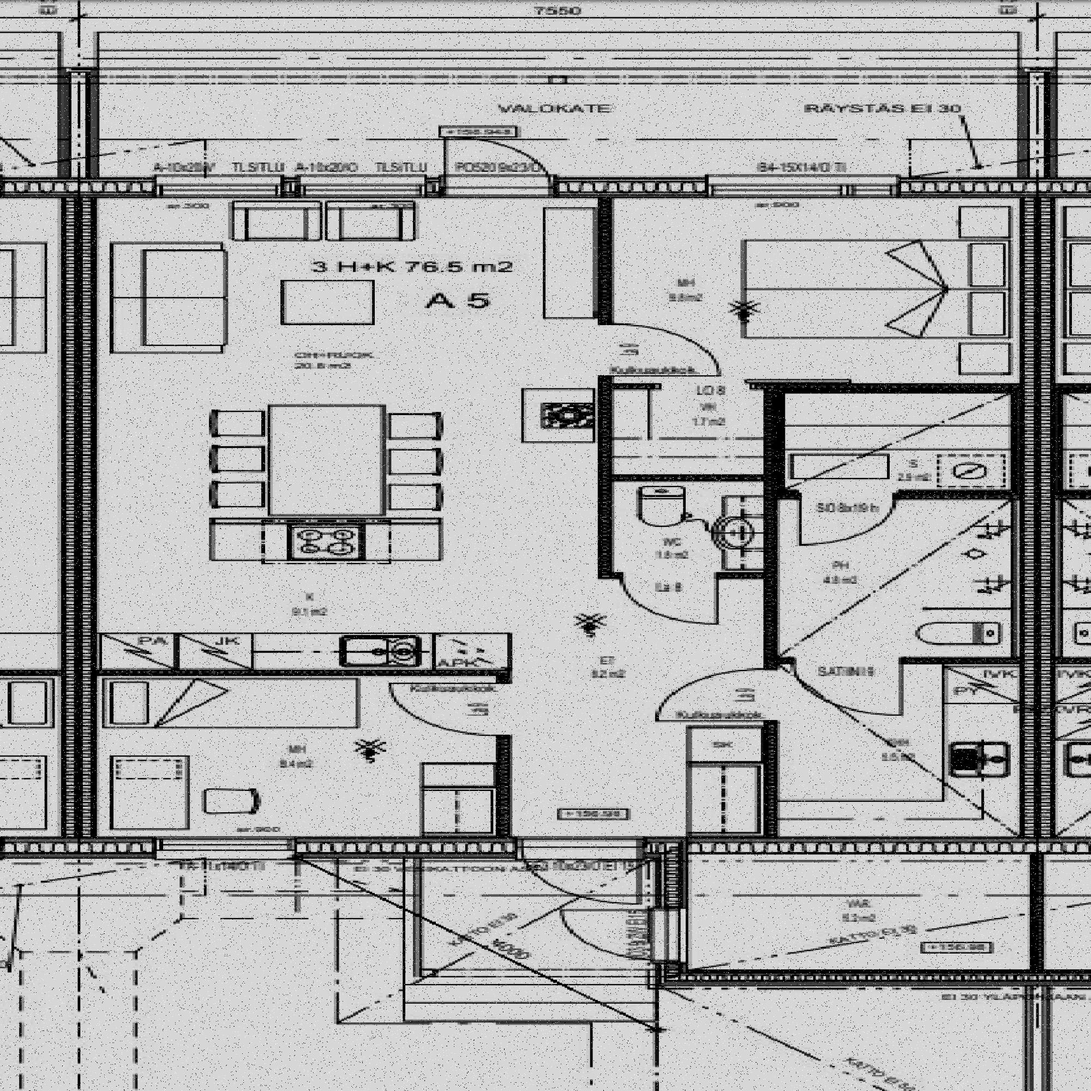wall: (62, 178, 97, 859), (62, 178, 1053, 198), (62, 839, 1044, 859), (1015, 383, 1053, 664), (1020, 178, 1053, 383), (658, 970, 1044, 987), (766, 383, 779, 839), (1023, 664, 1053, 851), (658, 859, 690, 987), (79, 669, 512, 677), (63, 71, 95, 178), (599, 178, 614, 390), (1024, 72, 1053, 178), (599, 383, 614, 579), (1025, 839, 1044, 987), (778, 383, 1015, 394), (778, 489, 1015, 500), (497, 669, 512, 839), (778, 656, 1015, 664), (211, 518, 442, 524), (599, 383, 779, 390), (599, 572, 766, 579), (779, 390, 789, 500), (614, 475, 766, 482)
